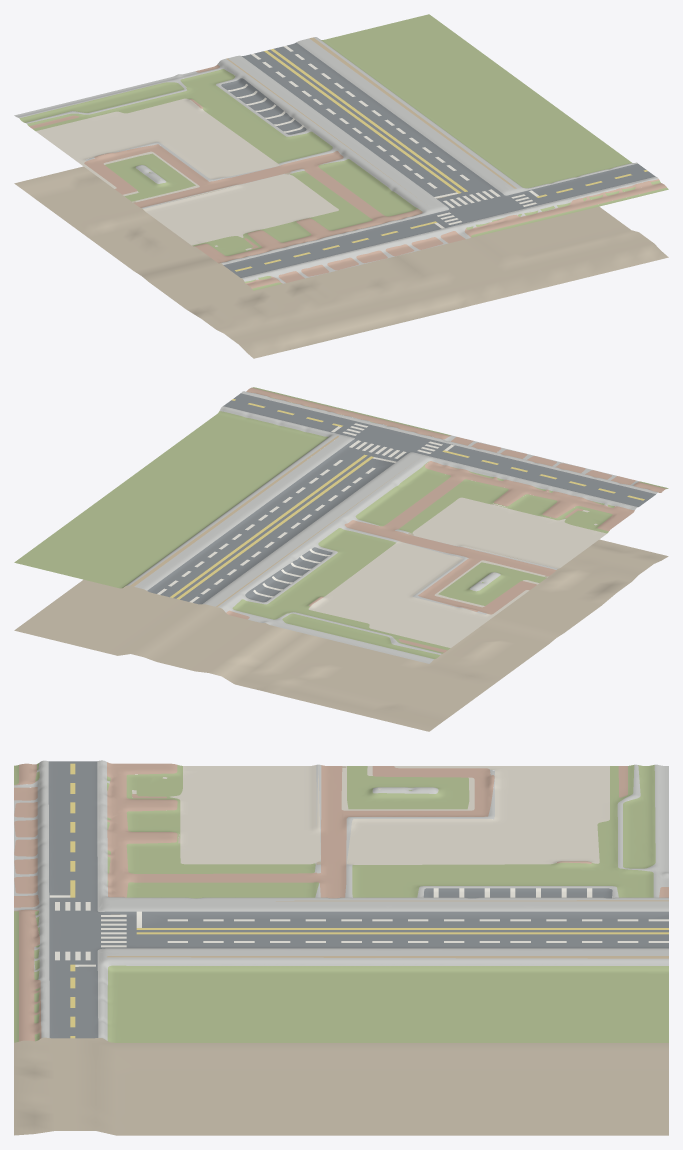
3 renders of one model, top to bottom at view 1: azimuth 30°, elevation 25°; view 2: azimuth 150°, elevation 25°; view 3: azimuth 270°, elevation 25°, orthographic. The views are drawn at different scales.
Visible parts, largest first — view 1: s_-5_2__soil, s_-5_2__grass, s_-5_2__asphalt, s_-5_2__paving, s_-5_2__stone_paving, s_-5_2__brick_paving, s_-5_2__white_marking, s_-5_2__yellow_marking, s_-5_2__timber_deck; view 2: s_-5_2__soil, s_-5_2__grass, s_-5_2__asphalt, s_-5_2__paving, s_-5_2__stone_paving, s_-5_2__brick_paving, s_-5_2__white_marking, s_-5_2__yellow_marking, s_-5_2__timber_deck; view 3: s_-5_2__grass, s_-5_2__soil, s_-5_2__asphalt, s_-5_2__paving, s_-5_2__stone_paving, s_-5_2__brick_paving, s_-5_2__yellow_marking, s_-5_2__white_marking, s_-5_2__timber_deck.
Boxes of the visible parts, bbox=[...] form: s_-5_2__soil: bbox=[14, 166, 668, 358]; s_-5_2__grass: bbox=[19, 14, 668, 290]; s_-5_2__asphalt: bbox=[221, 42, 655, 277]; s_-5_2__paving: bbox=[36, 98, 338, 250]; s_-5_2__stone_paving: bbox=[14, 37, 658, 283]; s_-5_2__brick_paving: bbox=[29, 64, 666, 288]; s_-5_2__white_marking: bbox=[227, 45, 538, 228]; s_-5_2__yellow_marking: bbox=[235, 49, 647, 271]; s_-5_2__timber_deck: bbox=[226, 37, 516, 197]; s_-5_2__soil: bbox=[14, 503, 668, 731]; s_-5_2__grass: bbox=[14, 387, 668, 658]; s_-5_2__asphalt: bbox=[147, 393, 655, 604]; s_-5_2__paving: bbox=[308, 497, 606, 647]; s_-5_2__stone_paving: bbox=[126, 391, 657, 663]; s_-5_2__brick_paving: bbox=[226, 387, 666, 652]; s_-5_2__white_marking: bbox=[157, 423, 454, 602]; s_-5_2__yellow_marking: bbox=[170, 399, 644, 599]; s_-5_2__timber_deck: bbox=[130, 436, 405, 606]; s_-5_2__grass: bbox=[14, 763, 668, 1042]; s_-5_2__soil: bbox=[14, 766, 668, 1135]; s_-5_2__asphalt: bbox=[48, 761, 668, 1038]; s_-5_2__paving: bbox=[132, 765, 609, 864]; s_-5_2__stone_paving: bbox=[14, 760, 668, 1040]; s_-5_2__brick_paving: bbox=[14, 762, 668, 1041]; s_-5_2__yellow_marking: bbox=[70, 763, 668, 1038]; s_-5_2__white_marking: bbox=[49, 888, 668, 966]; s_-5_2__timber_deck: bbox=[107, 900, 668, 958].
Bounding box in the file's own units: 128 × 21.51 × 128.
